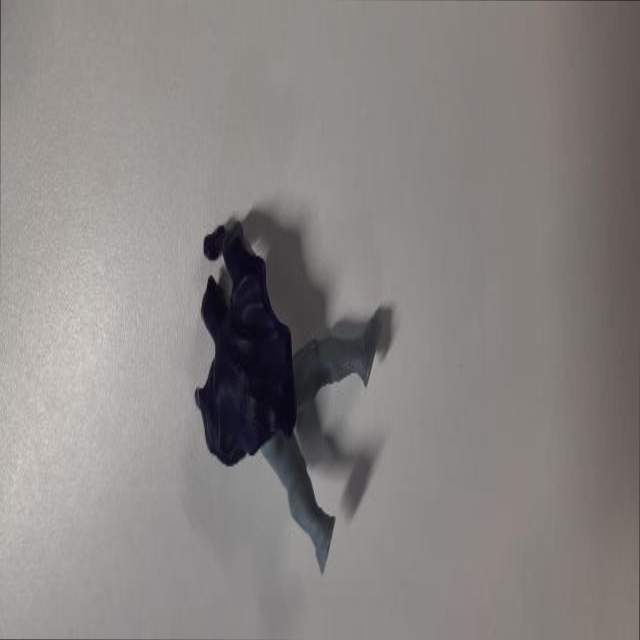Batman: (190, 215, 400, 575)
